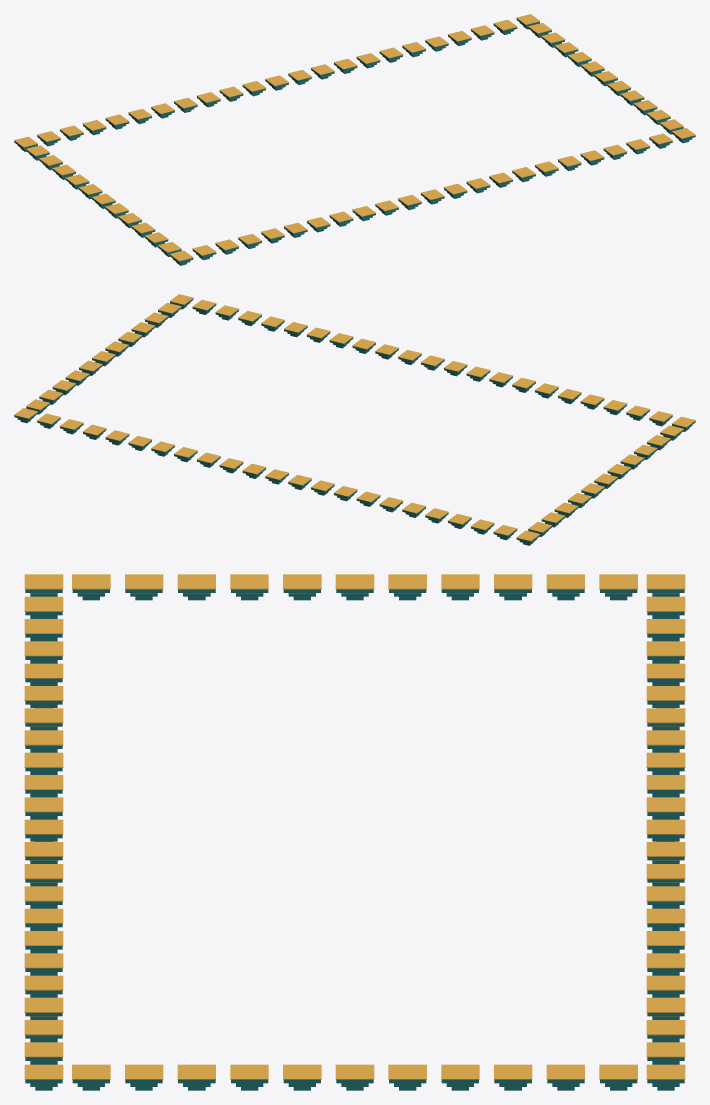
Rendered from SM_10_Dougong_Brackets.fbx.
3 views of the same model, one above another, from view 1: azimuth 30°, elevation 25°; view 2: azimuth 150°, elevation 25°; view 3: azimuth 270°, elevation 25° (orthographic). The views are drawn at different scales.
Parts seen in each view (by area): view 1: Dougong_Brackets; view 2: Dougong_Brackets; view 3: Dougong_Brackets.
Boxes of the visible parts, x1=… form: Dougong_Brackets: x1=14, y1=14, x2=695, y2=265; Dougong_Brackets: x1=14, y1=294, x2=695, y2=545; Dougong_Brackets: x1=24, y1=574, x2=685, y2=1090.
Size of the model in its own units: 4528 by 2506 by 65.25.
